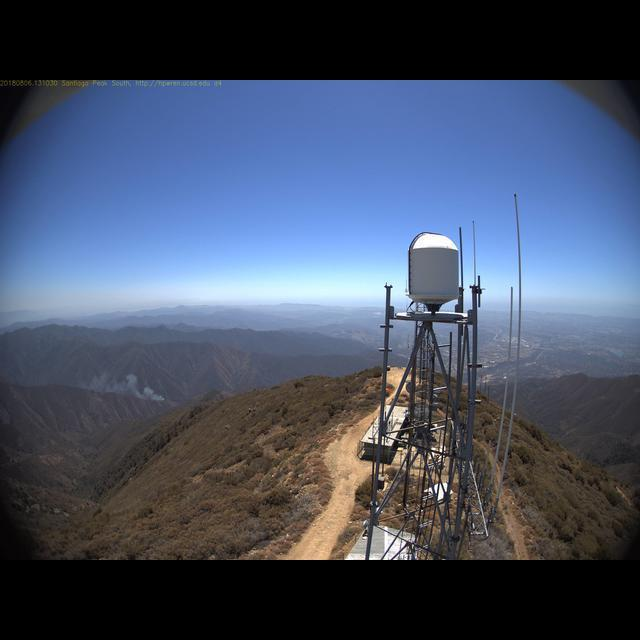Smoke: (39, 358, 178, 409)
